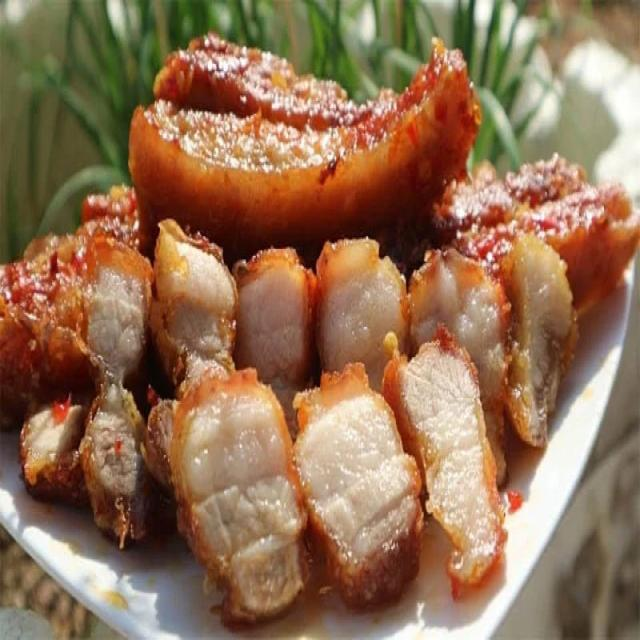thit chien: (0, 36, 639, 623)
